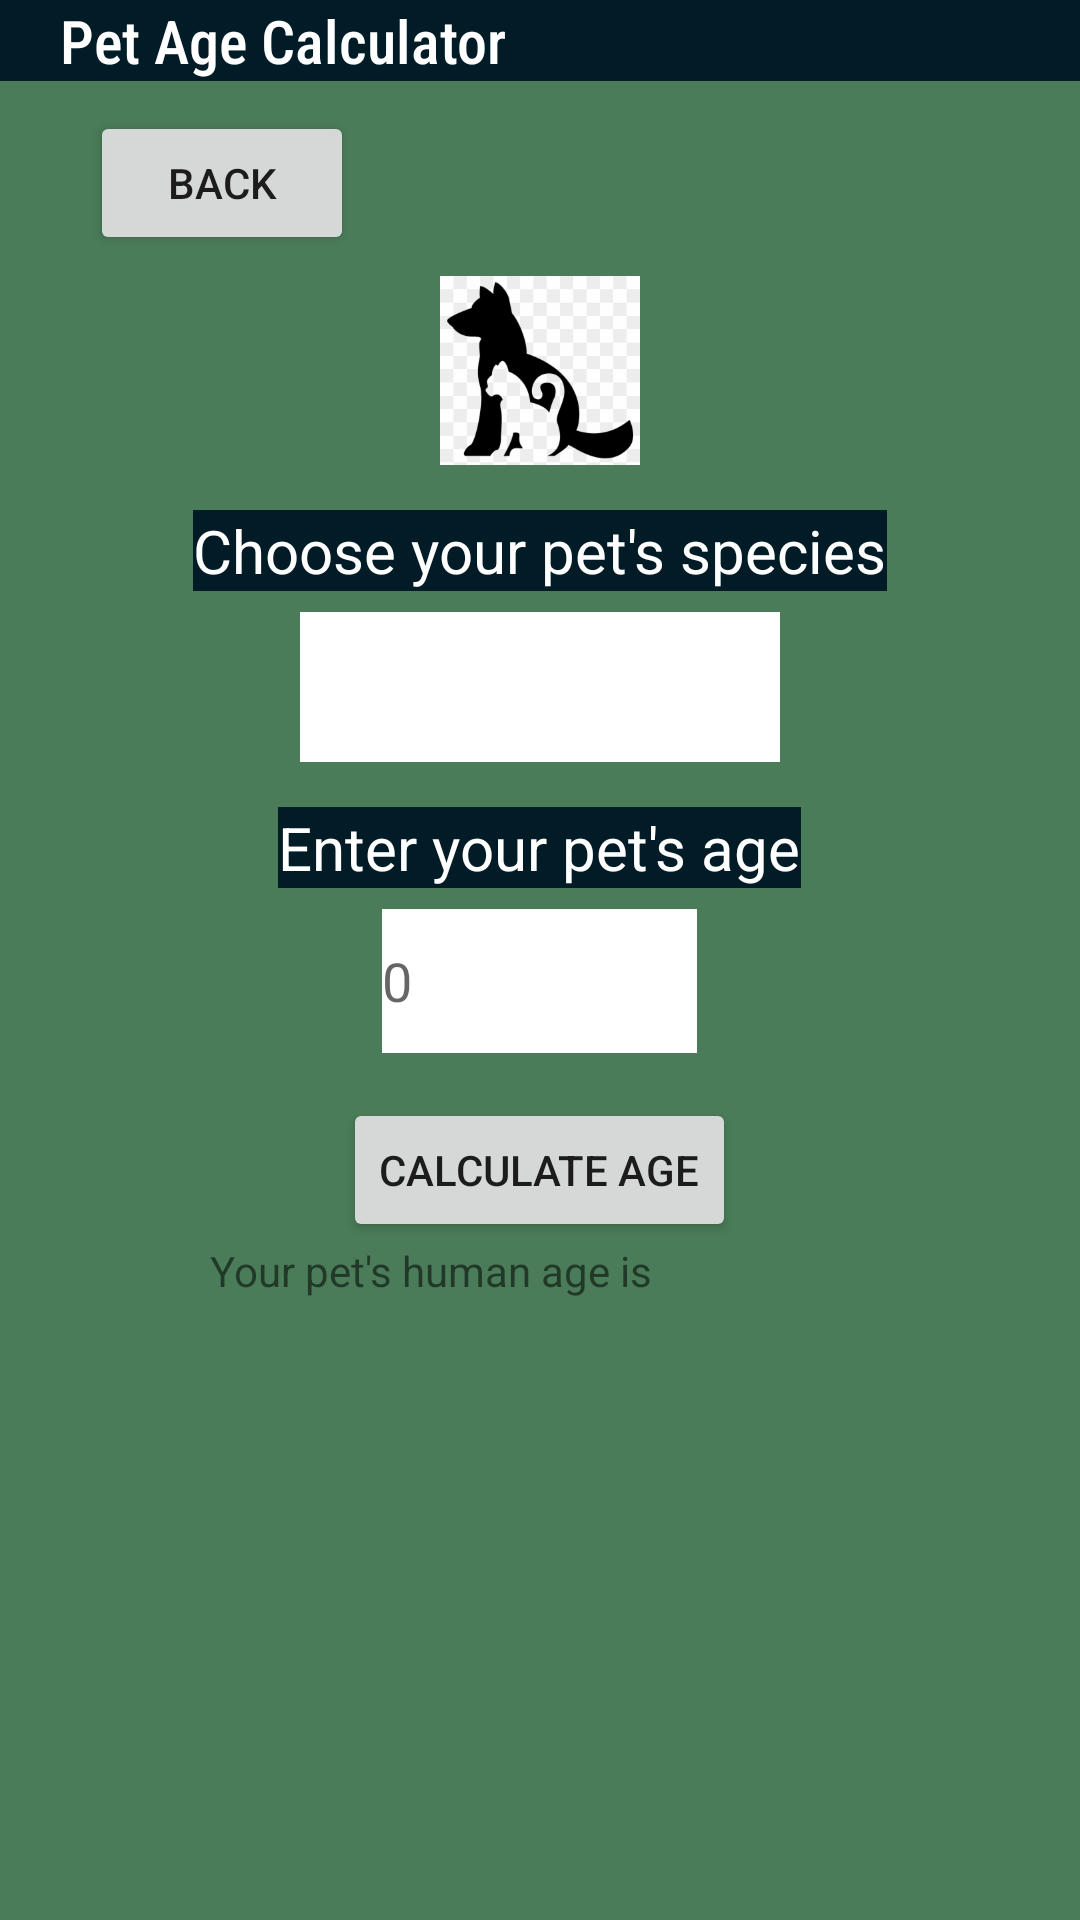

Point at icon controls on the screen. Image size 1080*1920, points as point (x, y).
Image of Pets: point (540, 370)
